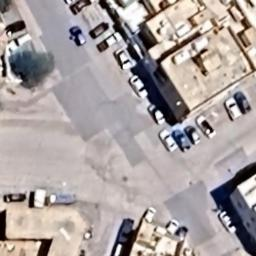SUV: (9, 31, 33, 53), (222, 97, 242, 120), (69, 23, 88, 46)
pickup: (96, 31, 124, 53)
sedan: (127, 74, 152, 101), (169, 127, 191, 153), (195, 114, 217, 140), (156, 128, 178, 153), (217, 209, 239, 233), (113, 48, 134, 72), (88, 20, 112, 40), (234, 90, 253, 114), (147, 102, 166, 124), (3, 189, 28, 205), (184, 123, 202, 145), (68, 0, 96, 14), (164, 216, 180, 239), (140, 205, 158, 225)
unknown: (177, 224, 193, 242)
